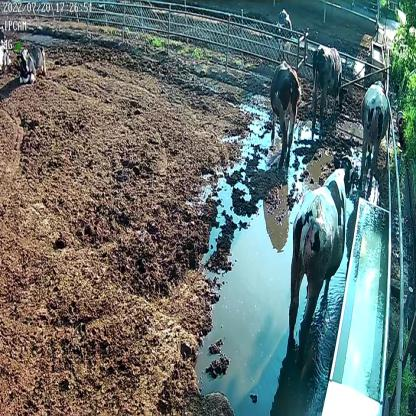cow: (286, 153, 354, 343), (268, 56, 303, 171), (359, 77, 391, 188), (311, 46, 346, 134), (16, 39, 46, 86)
